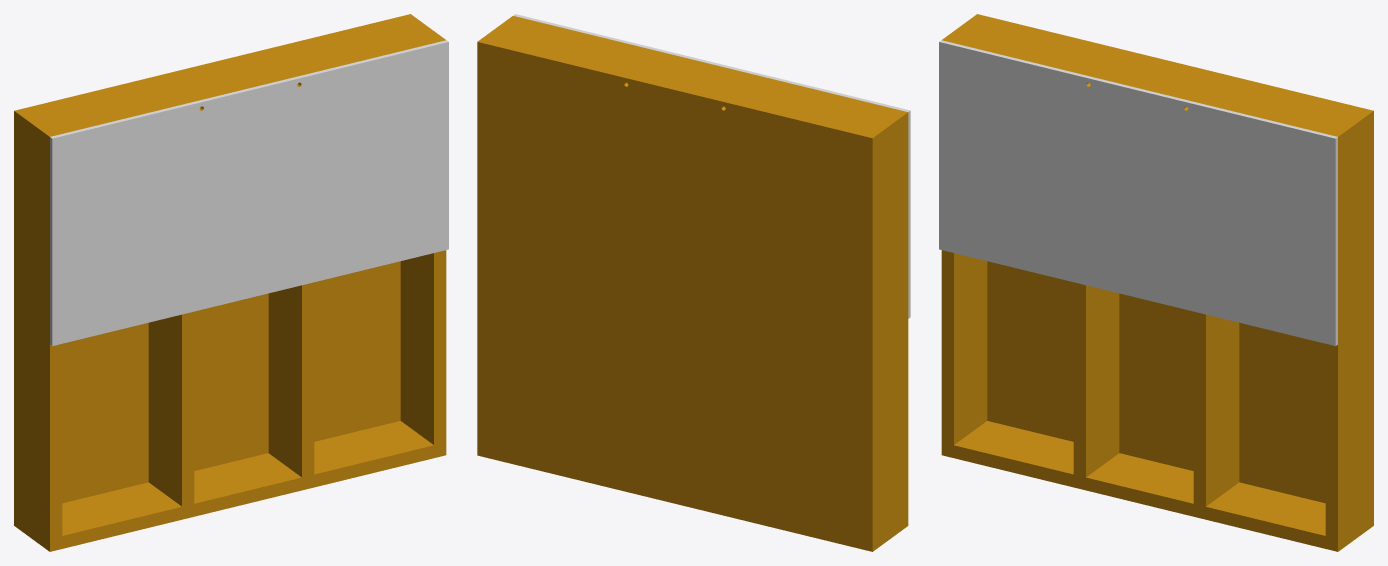
The model's file is wall_plain.dae.
3 renders of one model, left to right at view 1: azimuth 30°, elevation 25°; view 2: azimuth 150°, elevation 25°; view 3: azimuth 330°, elevation 25°, orthographic.
Visible parts, largest first — view 1: Wall_Plain; view 2: Wall_Plain; view 3: Wall_Plain.
Boxes of the visible parts, bbox=[...] form: Wall_Plain: bbox=[14, 14, 448, 551]; Wall_Plain: bbox=[477, 14, 910, 551]; Wall_Plain: bbox=[939, 14, 1373, 551].
Size of the model in its own units: 610 by 102 by 610.
